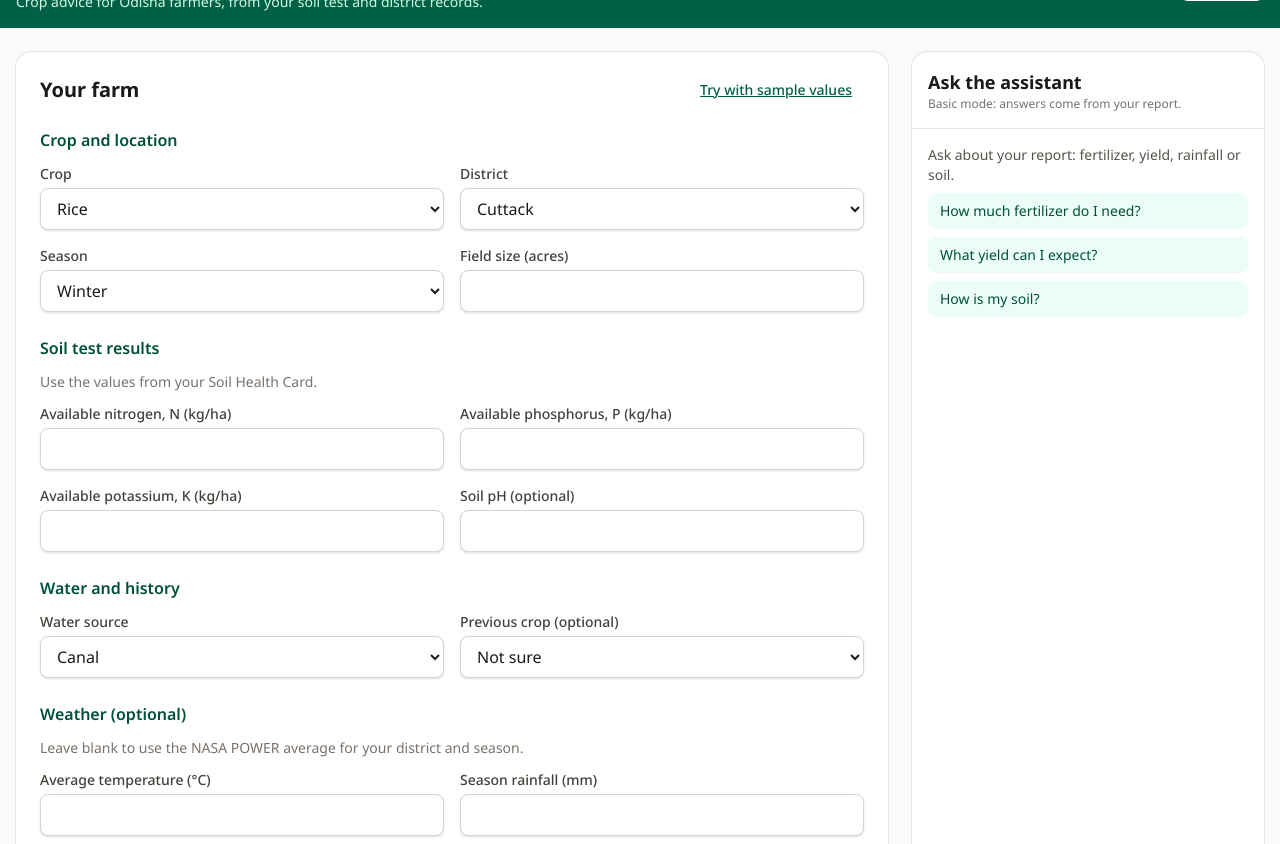
Test: farm report › highlights fields the API rejects
This screenshot has width=1280, height=844.
Click the button "Try with sample values" at x=776, y=90, box left=688, top=76, right=864, bottom=104
(page scrolled)
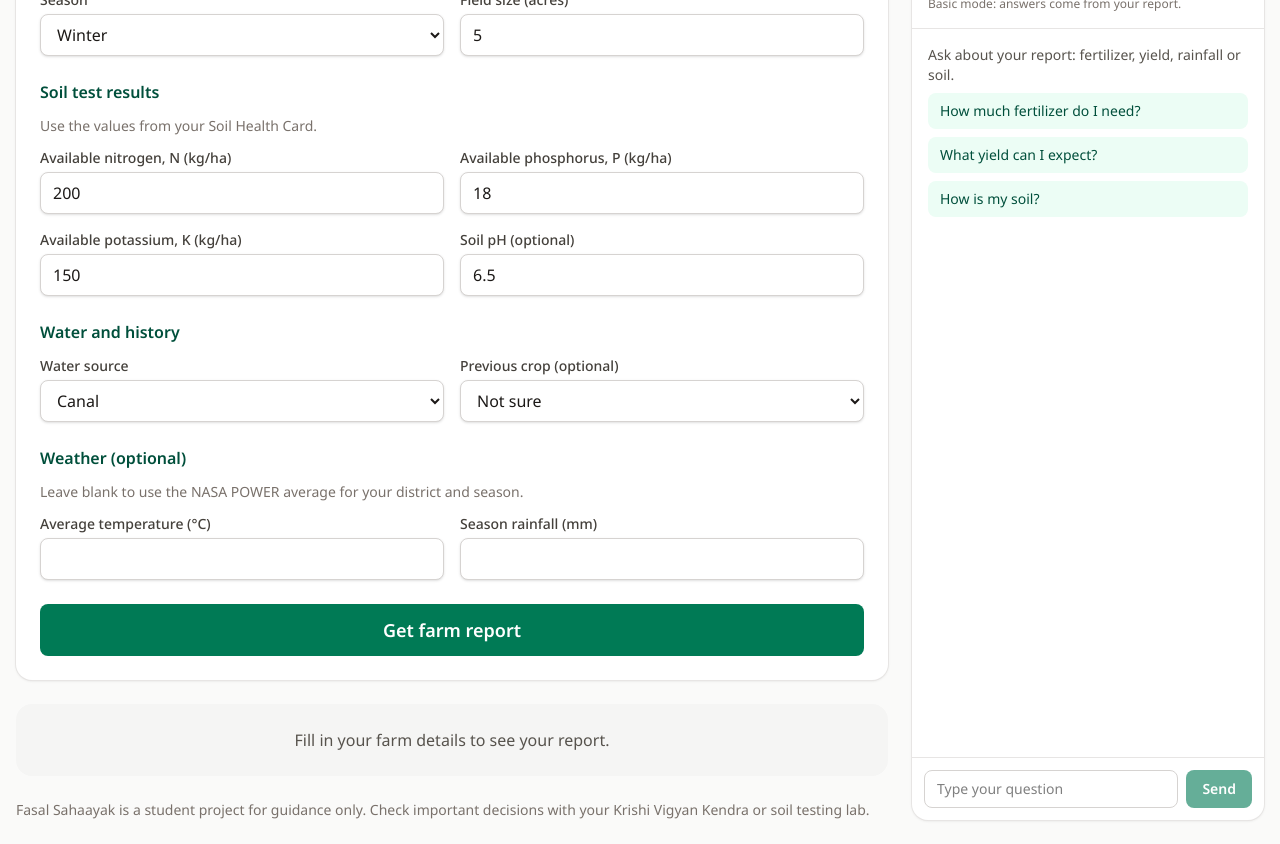
Click the button "Get farm report" at x=452, y=630, box left=40, top=604, right=864, bottom=656
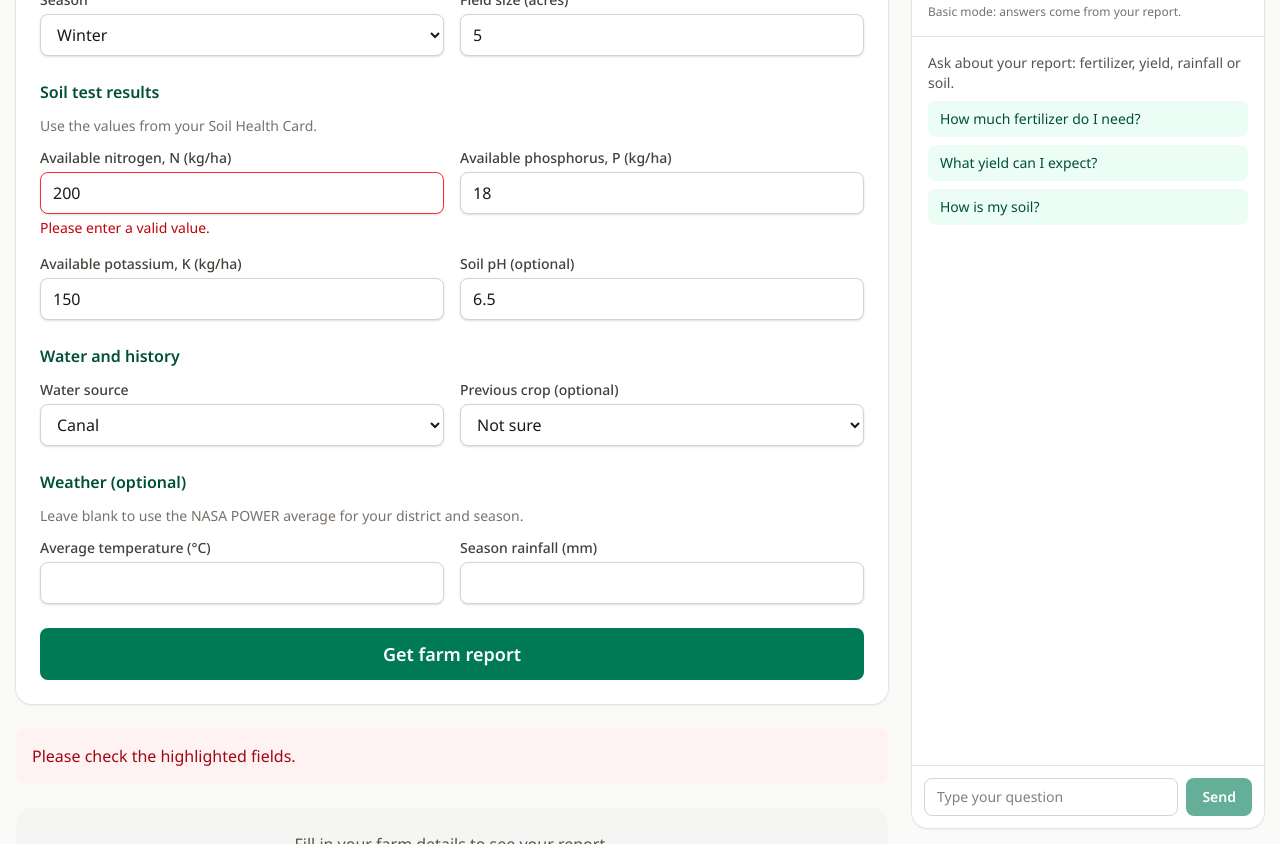
Now the text "Please check the highlighted fields." is shown, box left=16, top=728, right=888, bottom=784
